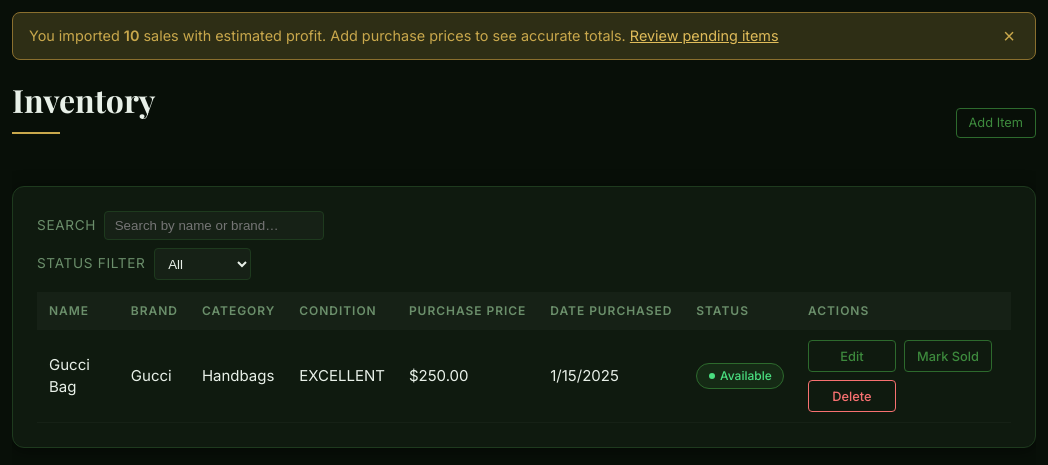
InventoryPage › import banner dismisses and stays dismissed
The image size is (1048, 465).
Expected: the text "imported" is shown, [29,27,124,44]
Note: Dismiss the banner
Click the button named "dismiss": click(1009, 36) [999,26,1019,46]
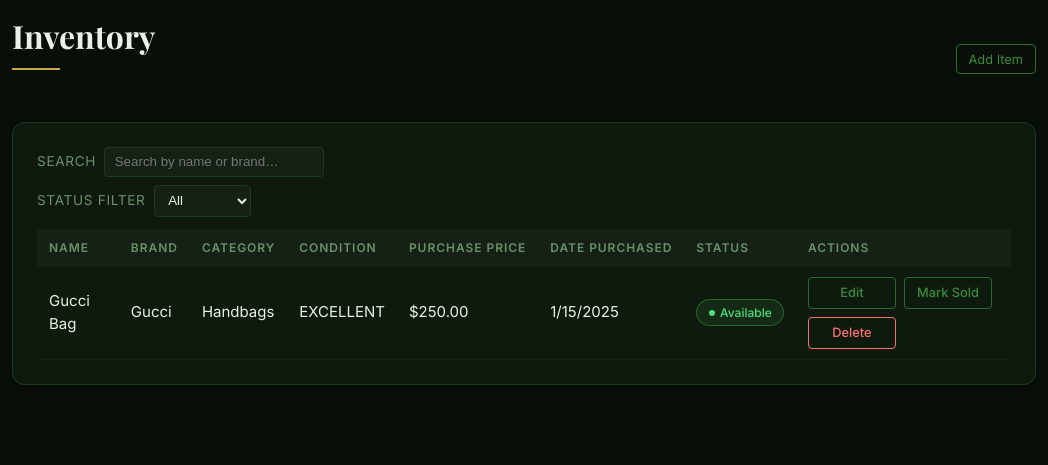
Result: the text "imported" is gone
